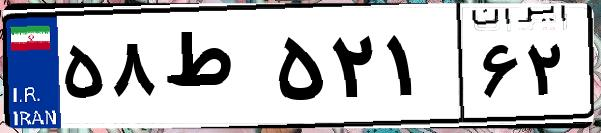1: (385, 28, 445, 110)
2: (330, 28, 385, 110), (525, 38, 570, 115)
5: (270, 28, 330, 110), (57, 26, 110, 100)
6: (475, 38, 525, 113)
8: (110, 28, 158, 98)
ط: (158, 20, 270, 120)
